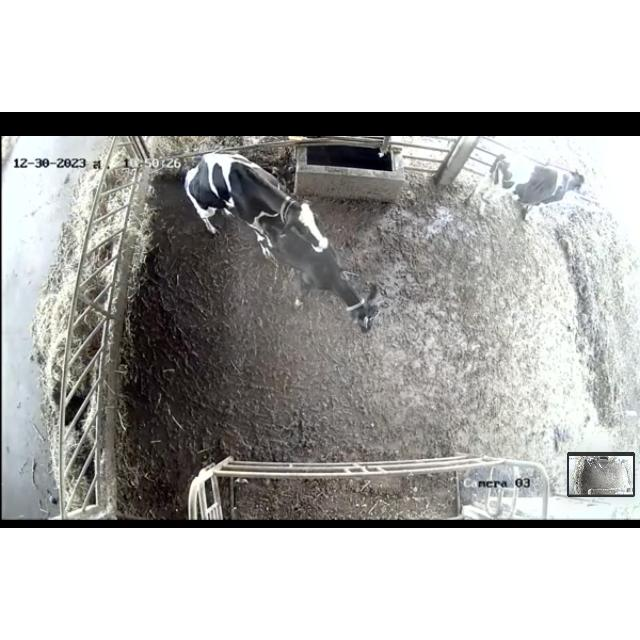ride: (174, 148, 334, 262)
